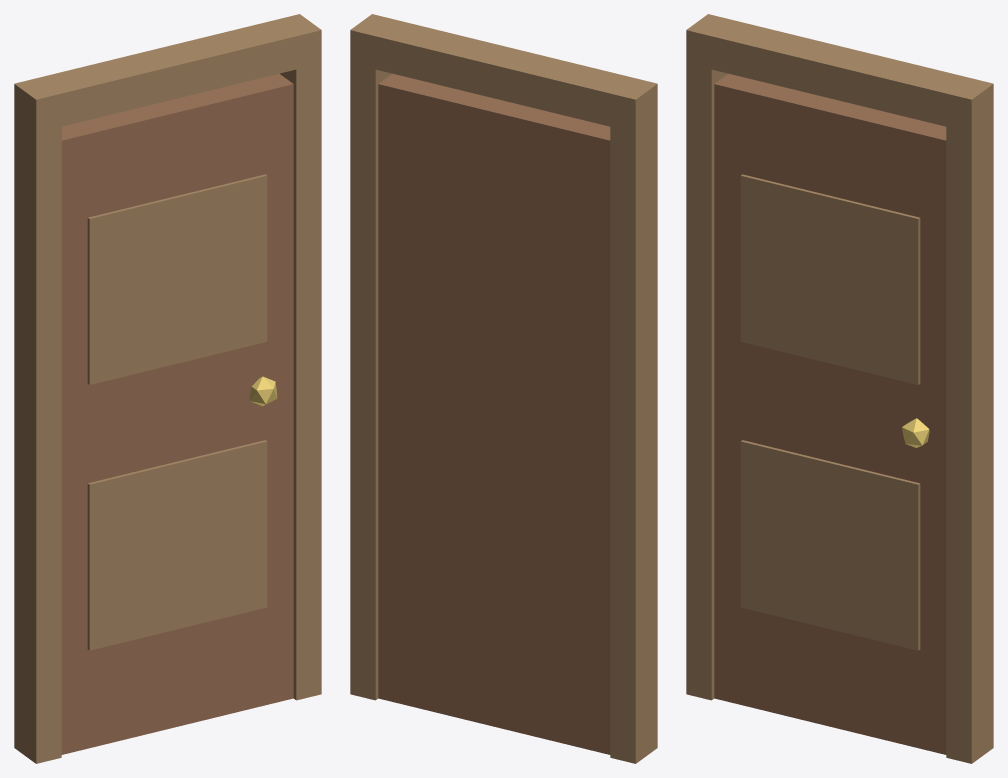
Rendered from interior_door.glb.
3 renders of one model, left to right at view 1: azimuth 30°, elevation 25°; view 2: azimuth 150°, elevation 25°; view 3: azimuth 330°, elevation 25°, orthographic.
Parts seen in each view (by area): view 1: leaf, jamb_l, panel_top, panel_bot, jamb_r, lintel, knob; view 2: leaf, jamb_l, jamb_r, lintel; view 3: leaf, jamb_r, panel_top, panel_bot, jamb_l, lintel, knob.
Part boxes in pixels (<box>): leaf: <box>61,73,293,754</box>; jamb_l: <box>14,84,61,763</box>; panel_top: <box>87,174,267,384</box>; panel_bot: <box>87,440,267,650</box>; jamb_r: <box>280,30,321,700</box>; lintel: <box>14,14,321,132</box>; knob: <box>249,376,277,406</box>; leaf: <box>378,73,610,754</box>; jamb_l: <box>610,84,657,763</box>; jamb_r: <box>350,30,391,700</box>; lintel: <box>350,14,657,132</box>; leaf: <box>714,73,946,754</box>; jamb_r: <box>946,84,993,763</box>; panel_top: <box>740,174,920,384</box>; panel_bot: <box>740,440,920,650</box>; jamb_l: <box>686,30,727,700</box>; lintel: <box>686,14,993,132</box>; knob: <box>902,418,929,447</box>.
Size of the model in its own units: 0.9 by 2 by 0.1483.
